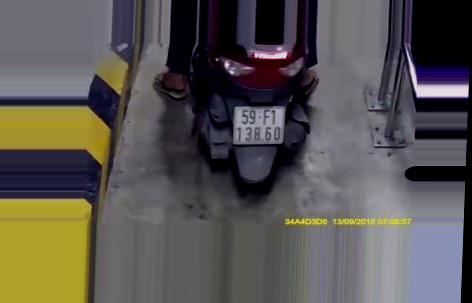License_Plate: (225, 102, 290, 150)
